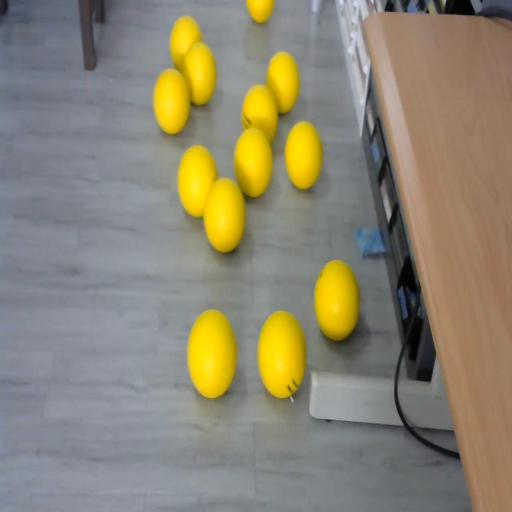FUEL: (256, 308, 308, 398), (186, 308, 237, 398), (313, 258, 359, 340), (202, 176, 247, 254), (233, 127, 273, 197), (284, 120, 324, 189), (182, 40, 218, 108), (153, 68, 190, 134), (266, 51, 300, 114), (245, 0, 274, 23)
